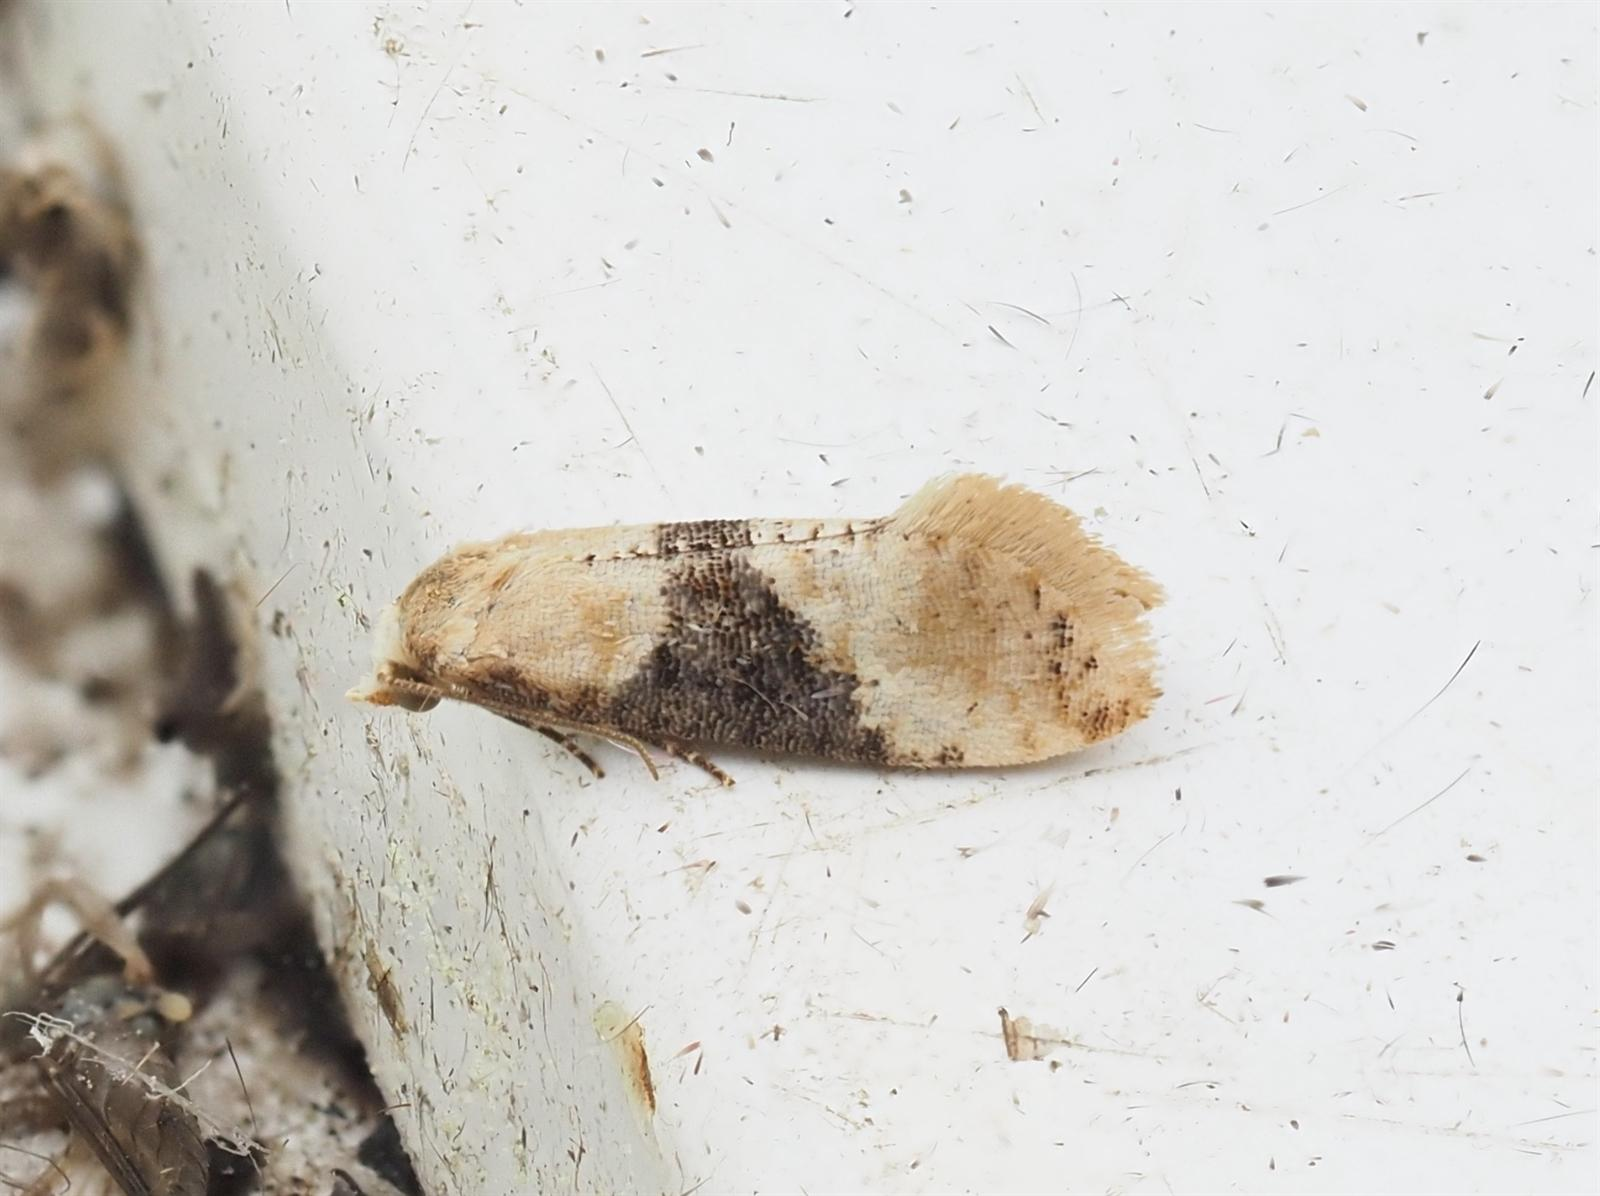Eupoecilia Ambiguella: (344, 467, 1169, 786)
